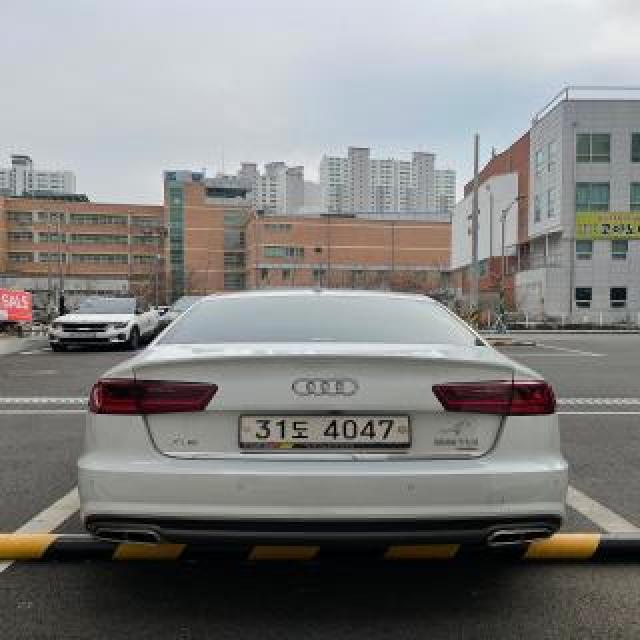car: (69, 282, 570, 560)
illegal_plate: (236, 411, 417, 455)
